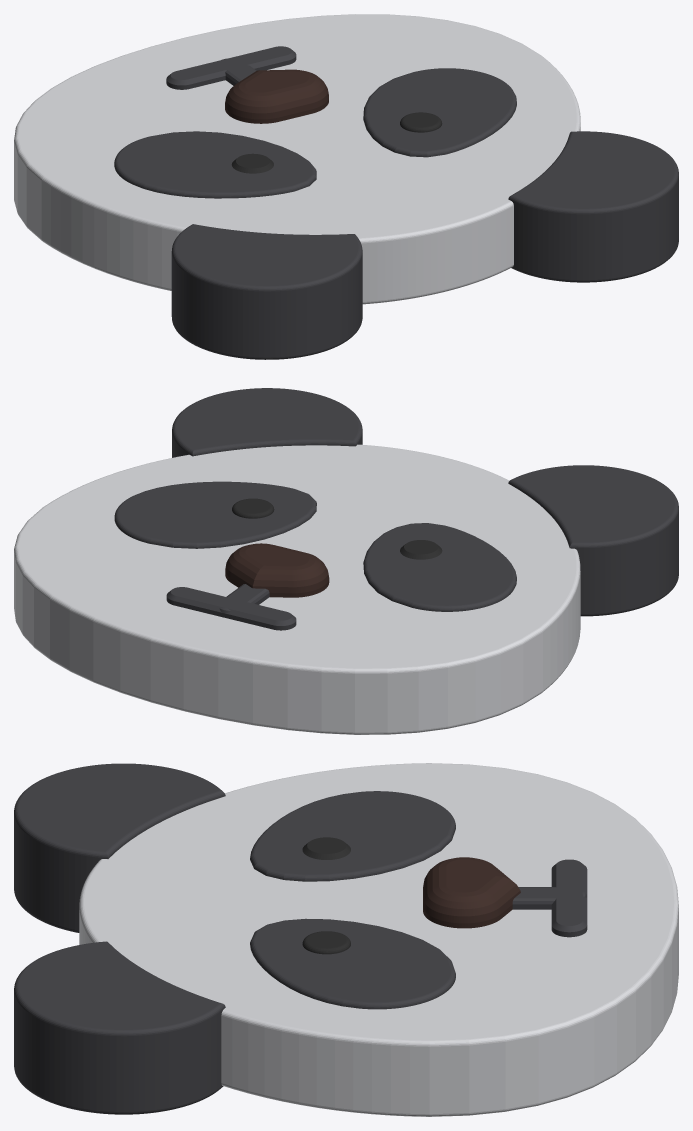
Rendered from panda.gltf.
The picture shows the model from 3 angles, top to bottom: view 1: azimuth 30°, elevation 25°; view 2: azimuth 150°, elevation 25°; view 3: azimuth 270°, elevation 25°; orthographic projection. The views are drawn at different scales.
Parts seen in each view (by area): view 1: Curve.001, Curve.010, Curve.015, Curve.014, Curve.012, Curve.011, Curve.013; view 2: Curve.001, Curve.010, Curve.015, Curve.014, Curve.013, Curve.012, Curve.011; view 3: Curve.001, Curve.010, Curve.015, Curve.014, Curve.013, Curve.012, Curve.011.
Part boxes in pixels (x1,y1,x2,y2): Curve.001: (14, 14, 580, 304); Curve.010: (114, 68, 678, 359); Curve.015: (225, 69, 328, 123); Curve.014: (166, 46, 296, 89); Curve.012: (400, 112, 442, 132); Curve.011: (231, 153, 273, 173); Curve.013: (220, 58, 256, 85); Curve.001: (14, 444, 580, 734); Curve.010: (114, 388, 678, 616); Curve.015: (225, 543, 329, 597); Curve.014: (166, 587, 296, 630); Curve.013: (219, 584, 269, 617); Curve.012: (232, 498, 274, 518); Curve.011: (400, 540, 442, 559); Curve.001: (79, 763, 678, 1116); Curve.010: (14, 763, 455, 1114); Curve.015: (423, 857, 520, 928); Curve.014: (551, 859, 587, 937); Curve.013: (512, 887, 586, 909); Curve.012: (302, 931, 350, 954); Curve.011: (302, 837, 350, 859).
Size of the model in its own units: 1.92 by 0.4023 by 1.92.
